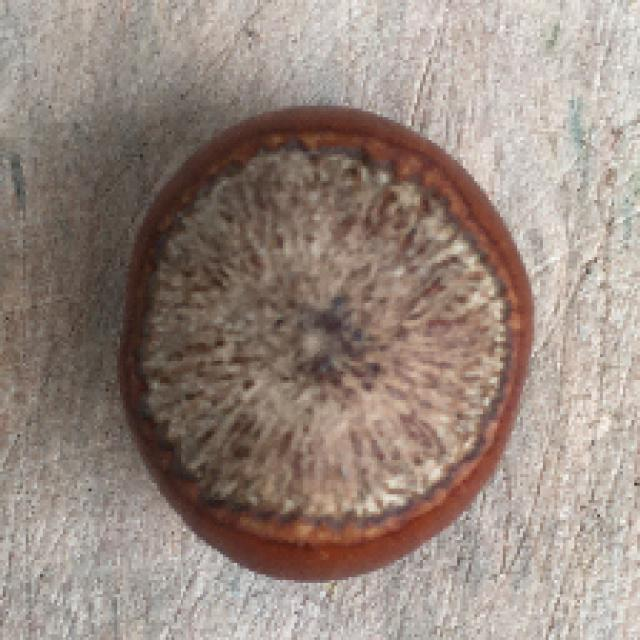qualityHazelnut: (114, 100, 536, 586)
